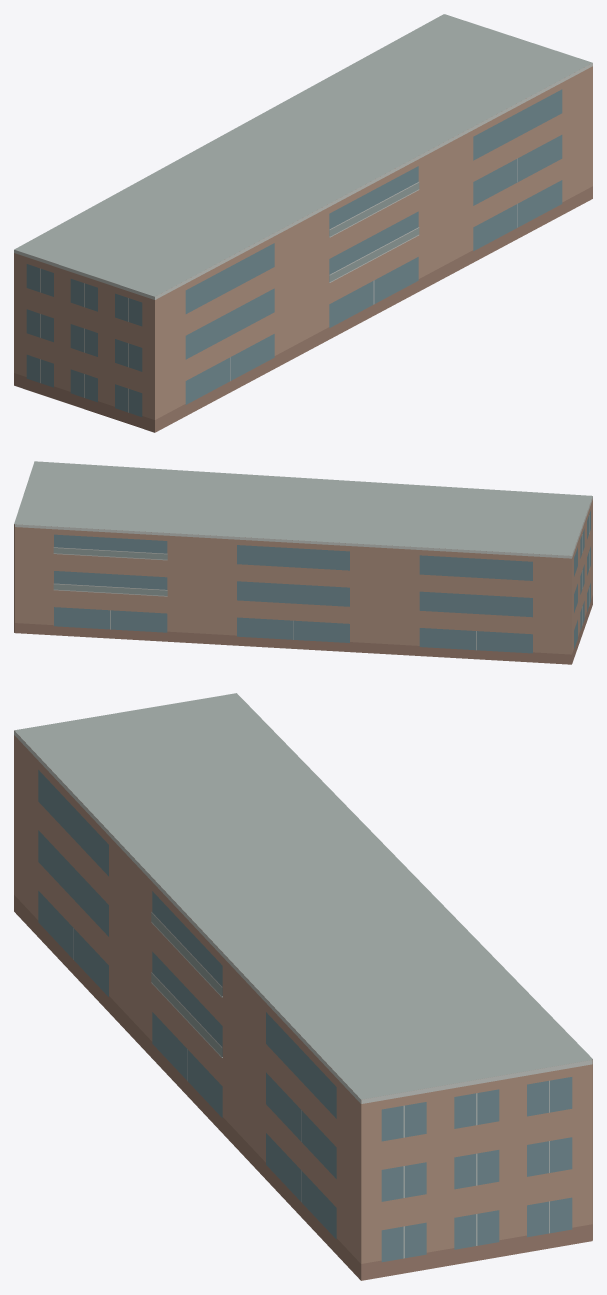
The model's file is survey-upis-32947773.glb.
The picture shows the model from 3 angles, top to bottom: view 1: azimuth 30°, elevation 25°; view 2: azimuth 150°, elevation 25°; view 3: azimuth 270°, elevation 25°; orthographic projection. The views are drawn at different scales.
Visible parts, largest first — view 1: survey-upis-32947773.tmp; view 2: survey-upis-32947773.tmp; view 3: survey-upis-32947773.tmp.
Boxes of the visible parts, left/top/right/bottom form: survey-upis-32947773.tmp: left=14, top=14, right=592, bottom=432; survey-upis-32947773.tmp: left=14, top=461, right=592, bottom=664; survey-upis-32947773.tmp: left=14, top=693, right=592, bottom=1280.
Bounding box in the file's own units: 47.66 × 9.9 × 28.67.
